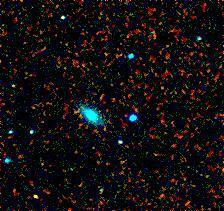star: (16, 181, 46, 211)
